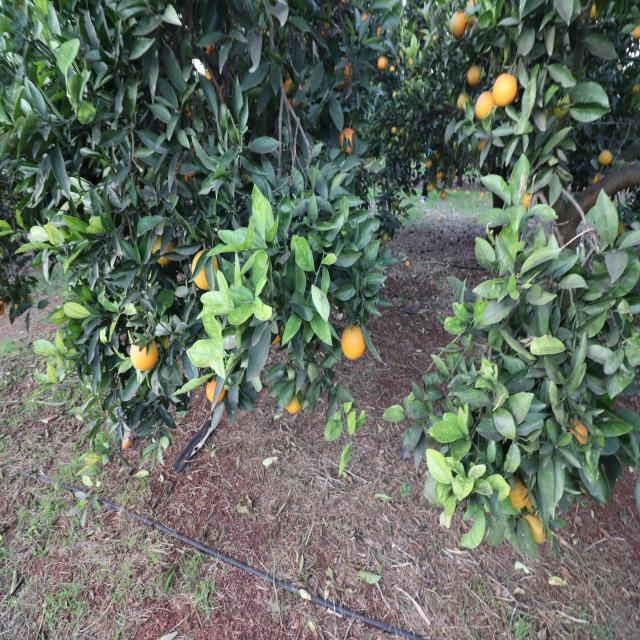Jeruk Sudah Matang: (130, 338, 158, 372), (193, 252, 217, 290), (342, 326, 366, 362), (493, 74, 518, 105), (508, 476, 530, 509), (522, 516, 548, 543), (152, 238, 174, 265), (476, 92, 496, 119), (206, 378, 225, 405), (571, 419, 588, 449), (283, 78, 297, 106), (450, 11, 466, 35), (339, 128, 355, 151), (287, 393, 303, 413), (467, 66, 480, 82), (598, 150, 611, 163), (522, 195, 532, 211), (378, 56, 387, 70)
